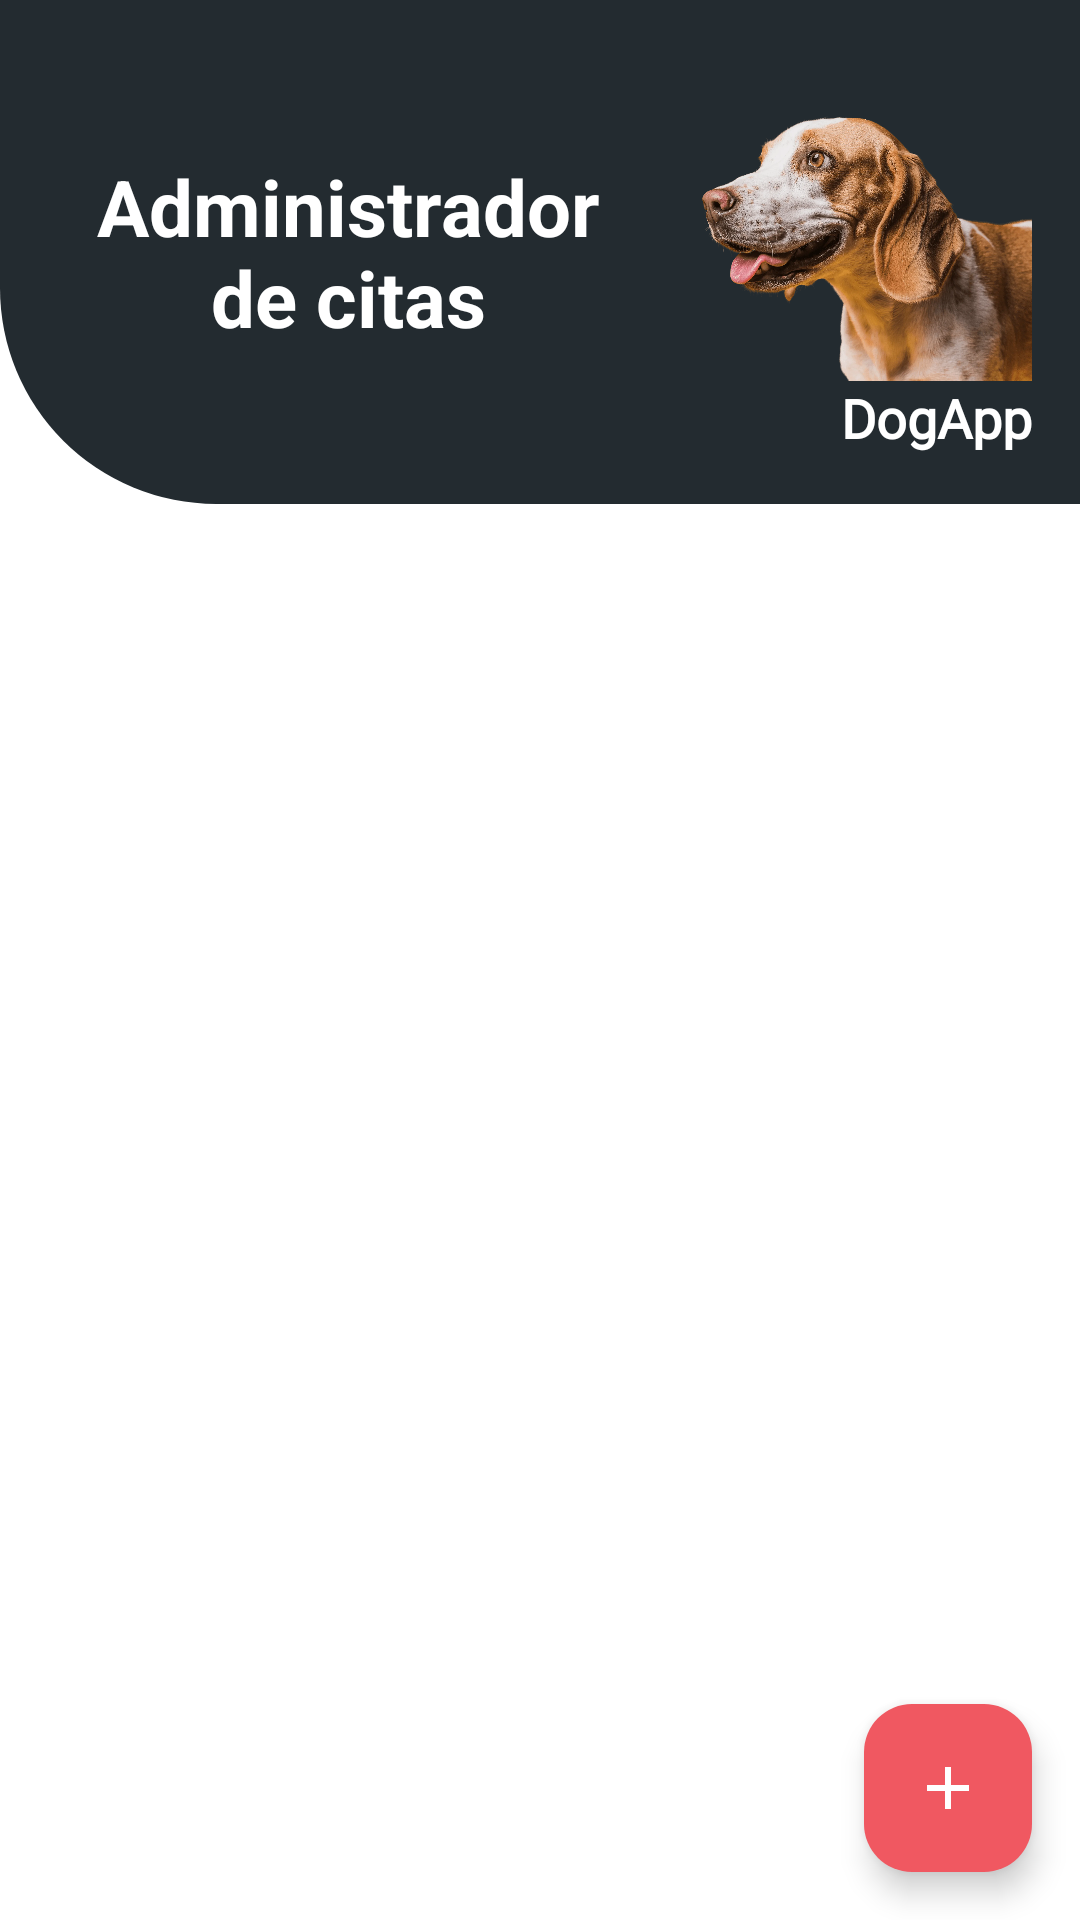

Locate icon controls on the screen. Image size 1080*1920, boxes as [left=x1, top=y1, right=x2, bottom=y2].
dog head: [left=702, top=117, right=1032, bottom=381]
Nueva Cita: [left=864, top=1704, right=1032, bottom=1872]
